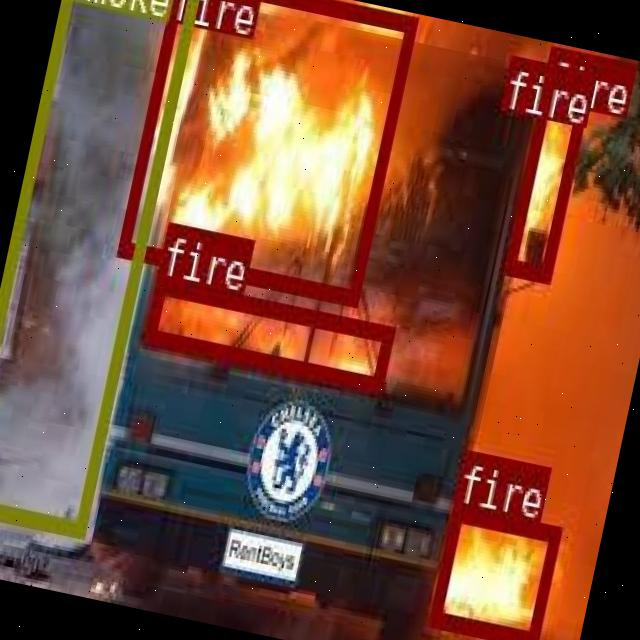fire: (116, 0, 416, 304), (142, 276, 393, 391), (427, 503, 558, 640), (501, 97, 583, 280), (507, 54, 541, 78)
smoke: (0, 0, 203, 532)
